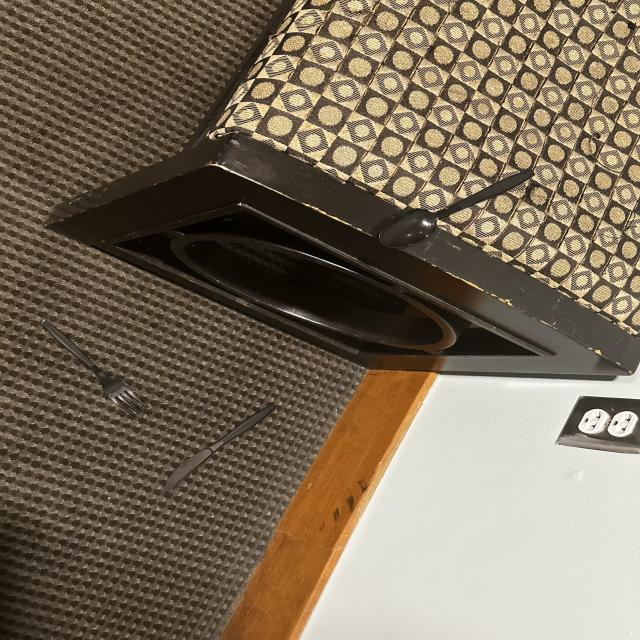fork: (15, 296, 157, 432)
knife: (168, 366, 311, 508)
spoon: (362, 137, 546, 272)
